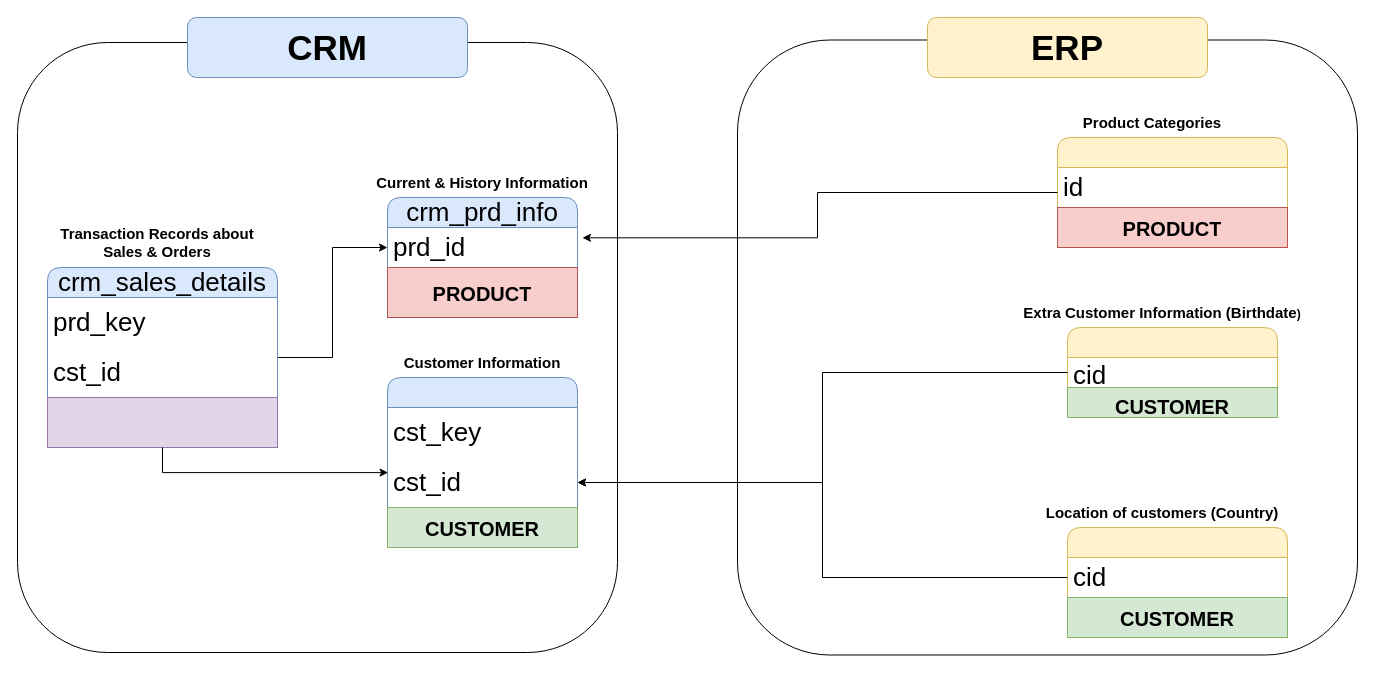
The diagram is 1375 pixels wide and 673 high, and some of its shapes have lost their labels. The shapes that lost their labels are listed below. From the top down, each one's box as (x1, y1, x2, y2) in pixels, then its label:
(1056, 136, 1288, 248): erp_px_cat_g1v2
(1066, 326, 1278, 418): erp_cust_az12
(46, 396, 278, 448): SALES
(386, 376, 578, 548): crm_cust_info
(1066, 526, 1288, 638): erp_loc_a101
